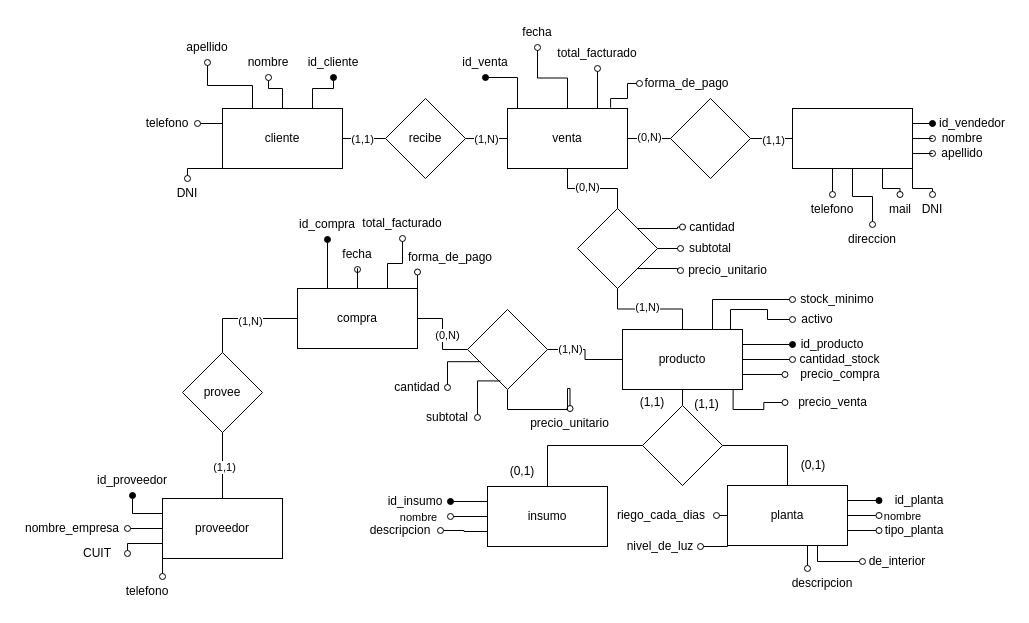
This 1029x623 diagram has some shape labels left out. The shapes that lost their labels are listed below. From the top down, each one's box as (x1, y1, x2, y2) in pixels, then its label:
(670, 98, 750, 178): realiza
(792, 108, 912, 168): vendedor
(576, 208, 658, 288): incluye
(466, 308, 548, 390): adquiere
(642, 404, 722, 486): contiene
